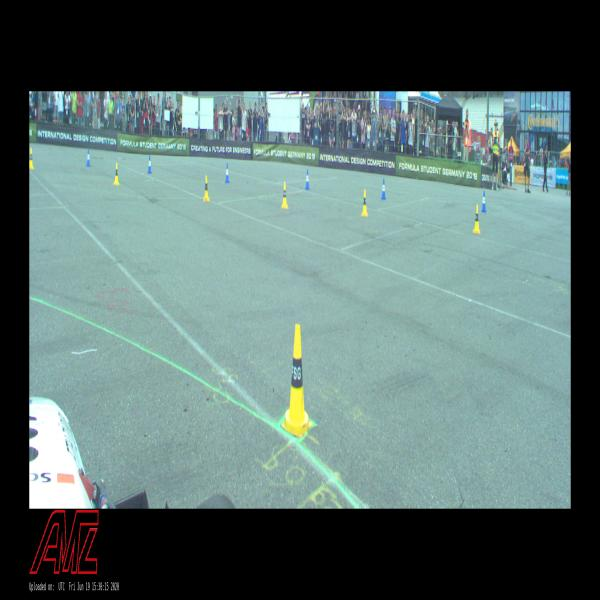blue_cone: (481, 190, 487, 212), (381, 178, 386, 200), (225, 163, 230, 183), (305, 170, 310, 189), (86, 149, 90, 167), (148, 156, 152, 173)
yellow_cone: (281, 325, 313, 438), (473, 205, 480, 233), (362, 189, 368, 216), (204, 175, 210, 201), (282, 182, 288, 208), (29, 147, 34, 169), (114, 163, 119, 185)
